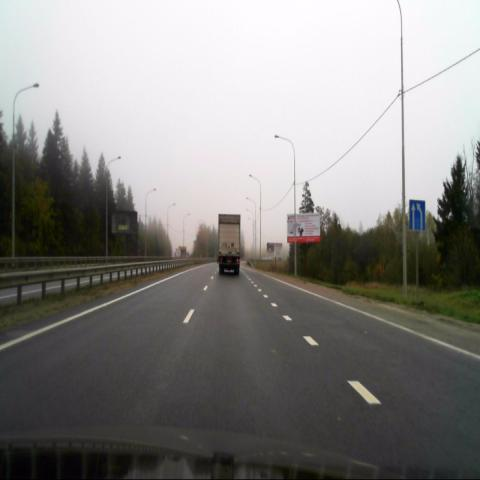5_15_5: (410, 199, 425, 231)
